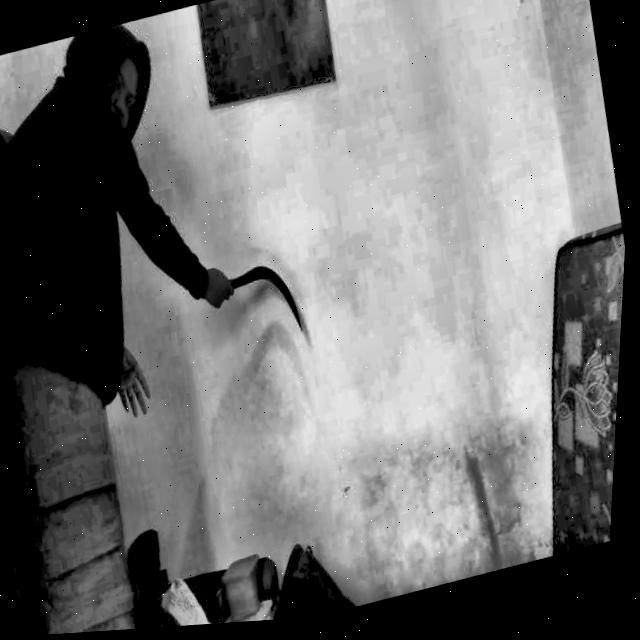celurit: (186, 223, 334, 380)
